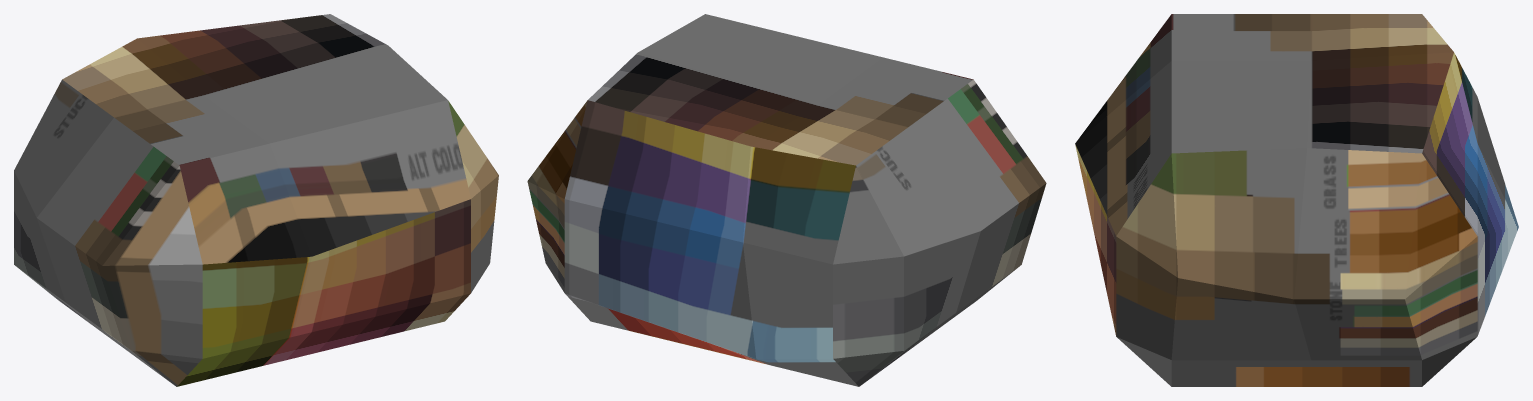
File: Bush 1.fbx
3 renders of one model, left to right at view 1: azimuth 30°, elevation 25°; view 2: azimuth 150°, elevation 25°; view 3: azimuth 270°, elevation 25°, orthographic. The views are drawn at different scales.
Parts seen in each view (by area): view 1: Bush; view 2: Bush; view 3: Bush.
Boxes of the visible parts, x1,y1,x2,y2 form: Bush: (14,14,498,386); Bush: (527,14,1046,386); Bush: (1075,14,1518,386).
Bounding box in the file's own units: 2.28 × 1.21 × 2.
